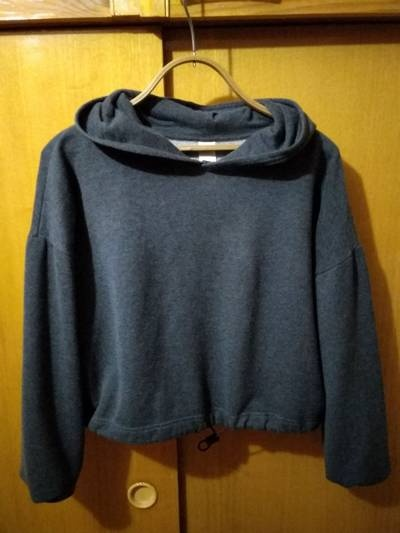Hoodie: (0, 56, 379, 500)
